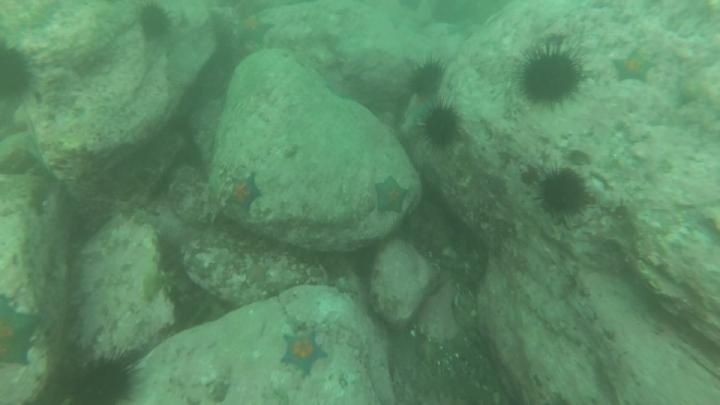echinus: (515, 43, 587, 110), (64, 350, 142, 405), (533, 165, 593, 220), (1, 40, 37, 104), (419, 101, 463, 150), (405, 57, 448, 99), (134, 3, 174, 43)
holothurian: (136, 269, 195, 299)
starfish: (1, 294, 41, 369), (277, 328, 330, 378), (610, 47, 657, 86), (370, 174, 412, 217), (223, 172, 264, 216), (231, 12, 276, 46), (241, 257, 273, 287)
